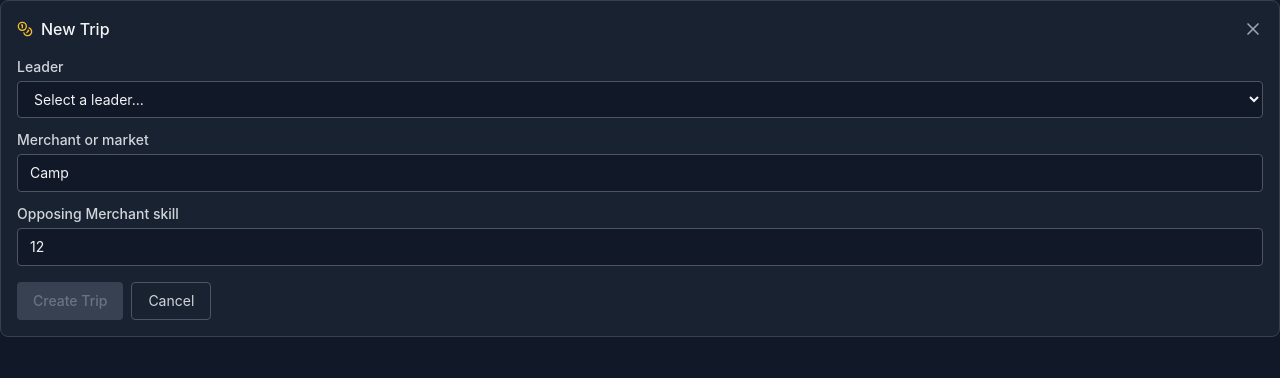
Test: TradingTaskForm › shows standing when the merchant name matches a contact case-insensitively
The width and height of the screenshot is (1280, 378).
Replace the text in the field with test id "merchant-name-input" with "  dockworkers' guild ": (640, 173) [17,154,1263,192]
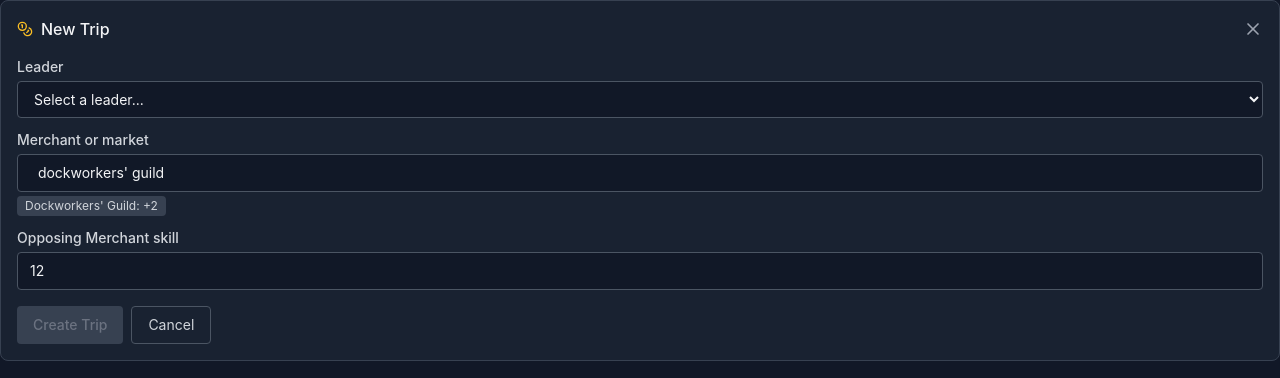
Expected: the text with test id "merchant-standing-badge" reads "Dockworkers' Guild: +2", [17,196,166,216]
